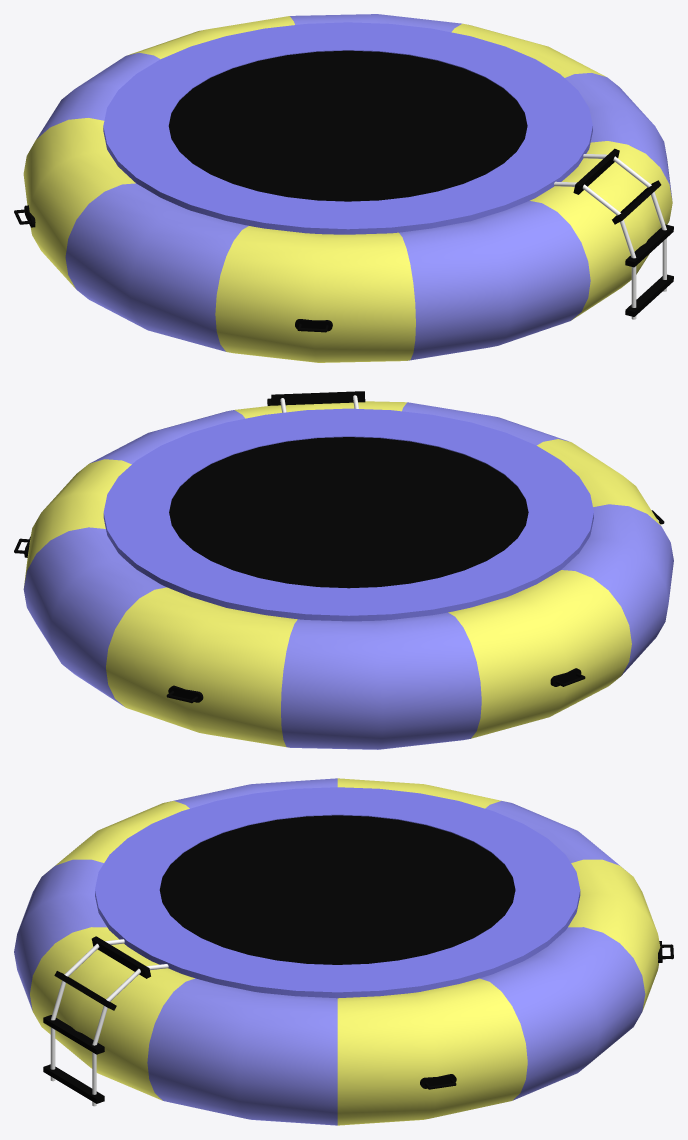
The picture shows the model from 3 angles, top to bottom: view 1: azimuth 30°, elevation 25°; view 2: azimuth 150°, elevation 25°; view 3: azimuth 270°, elevation 25°; orthographic projection.
Visible parts, largest first — view 1: 水上蹦床_mesh; view 2: 水上蹦床_mesh; view 3: 水上蹦床_mesh.
Boxes of the visible parts, box(x1,y1,x2,y2) form: 水上蹦床_mesh: box(14, 14, 673, 362); 水上蹦床_mesh: box(14, 391, 673, 749); 水上蹦床_mesh: box(14, 778, 673, 1125).
Size of the model in its own units: 564 by 121 by 575.
